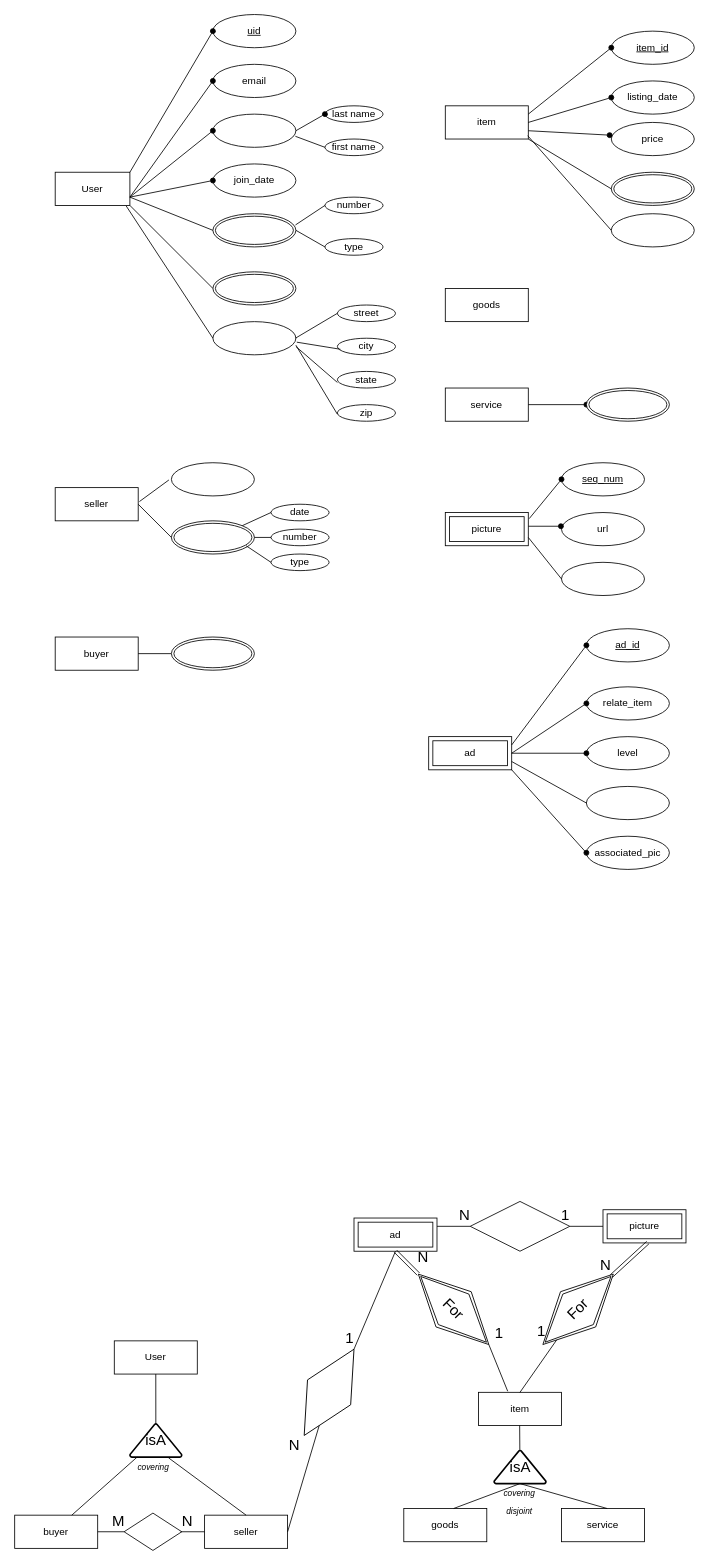
Some shapes in this 709 by 1565 pixel diagram are drawn without their labels. The shapes that lost their labels are listed below. From the top down, each one's centre as x and y in pixels, then its label:
[254,130]: name
[652,188]: pictures
[254,230]: phone
[652,230]: discription
[254,288]: interests
[254,338]: address
[627,404]: serve_frequence
[212,479]: website
[212,537]: rating
[602,578]: fomat
[212,653]: purchase_date
[627,803]: additional_text
[519,1226]: have
[329,1392]: Place
[152,1531]: rate
